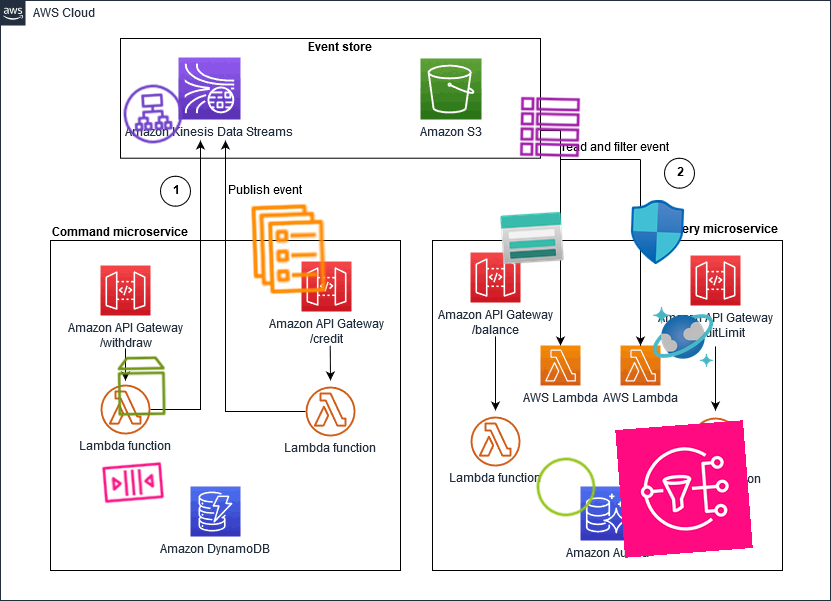aws_amazon_simple_notification_service: (615, 420, 753, 558)
aws_dynamodb_table: (517, 94, 583, 160)
aws_elastic_block_store_volume: (109, 353, 175, 419)
aws_elastic_container_service_service: (239, 199, 339, 299)
aws_elastic_load_balancing_application_load_balancer: (119, 80, 187, 148)
aws_simple_queue_service_queue: (98, 447, 168, 517)
aws_simple_storage_service_object: (531, 452, 601, 522)
azure_cosmos_db: (650, 304, 716, 370)
azure_network_security_groups: (623, 198, 691, 266)
azure_storage_accounts: (497, 203, 567, 273)
